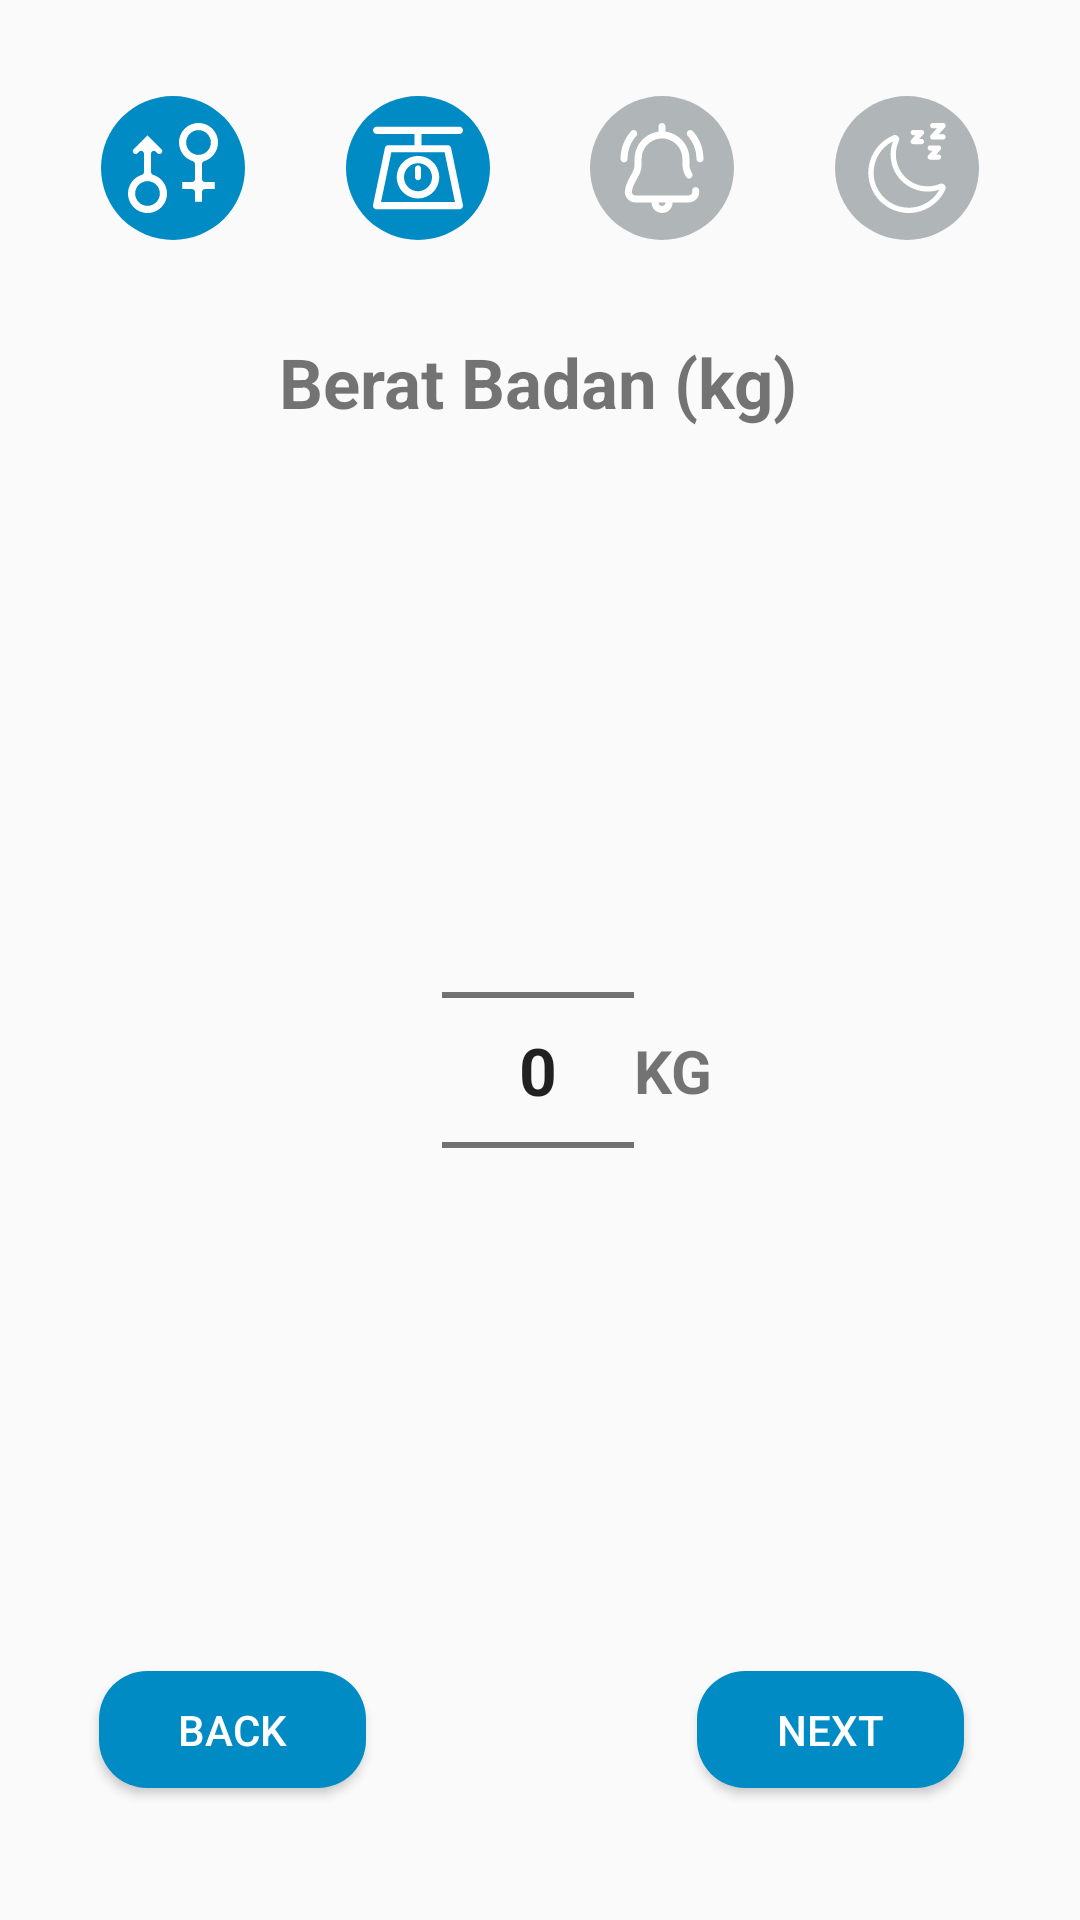

Where icons sit on this 1080*1920 app screen, as (x1, y1, x2, y2):
alarm: (590, 96, 734, 240)
gender symbols: (101, 96, 245, 240)
scale: (346, 96, 490, 240)
sleep: (835, 96, 979, 240)
